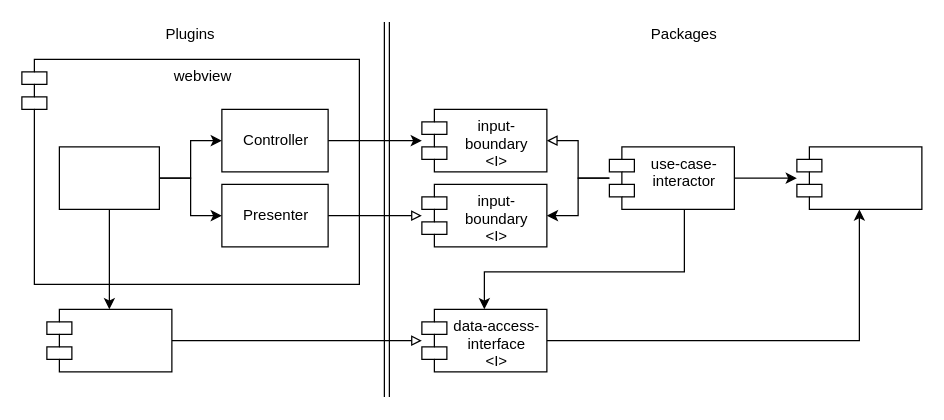
This 944x420 diagram has some shape labels left out. Here are the shapes that lost their labels. From the top down, the centre of each, then its label:
At (x=108, y=177): "Main".
At (x=859, y=177): "entities".
At (x=109, y=340): "local-storage".
